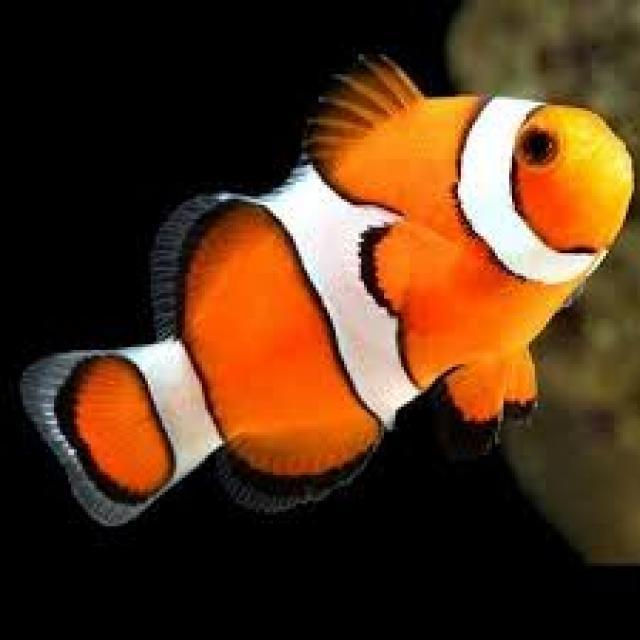ClownFish: (24, 50, 639, 526)
